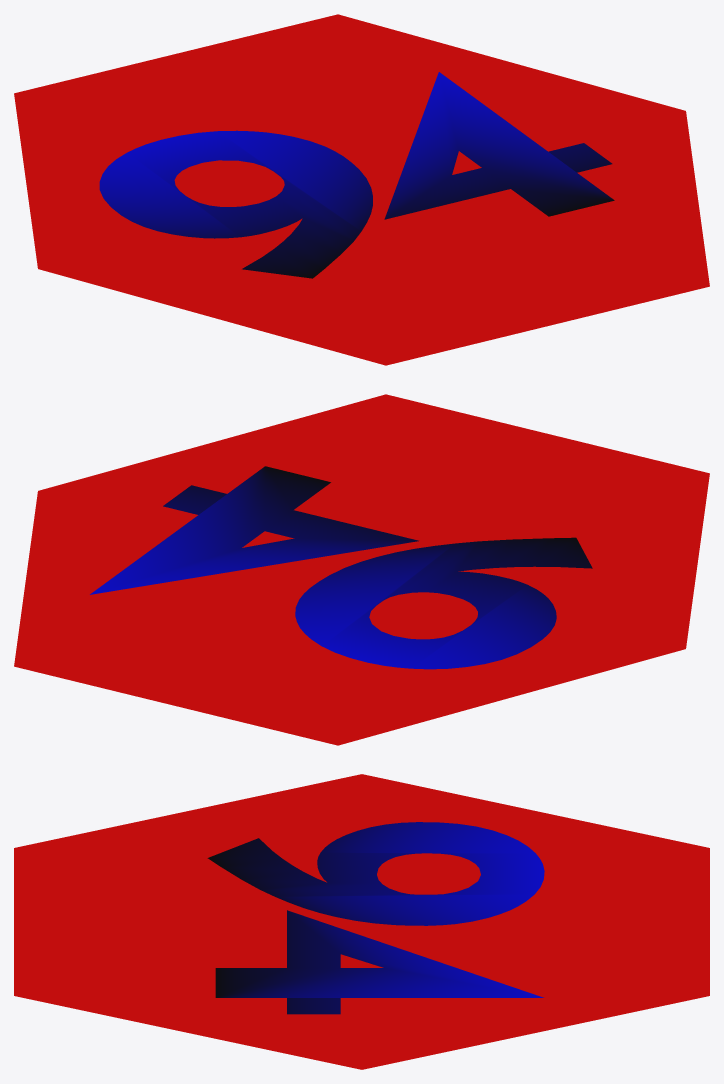
The model's file is SM_Number_94.fbx.
3 renders of one model, top to bottom at view 1: azimuth 30°, elevation 25°; view 2: azimuth 150°, elevation 25°; view 3: azimuth 270°, elevation 25°, orthographic. The views are drawn at different scales.
Parts seen in each view (by area): view 1: FBX_OUT; view 2: FBX_OUT; view 3: FBX_OUT.
Boxes of the visible parts, x1=… form: FBX_OUT: x1=14, y1=14, x2=709, y2=365; FBX_OUT: x1=14, y1=394, x2=709, y2=745; FBX_OUT: x1=14, y1=774, x2=709, y2=1069.
Size of the model in its own units: 50 by 0.2917 by 49.71.
